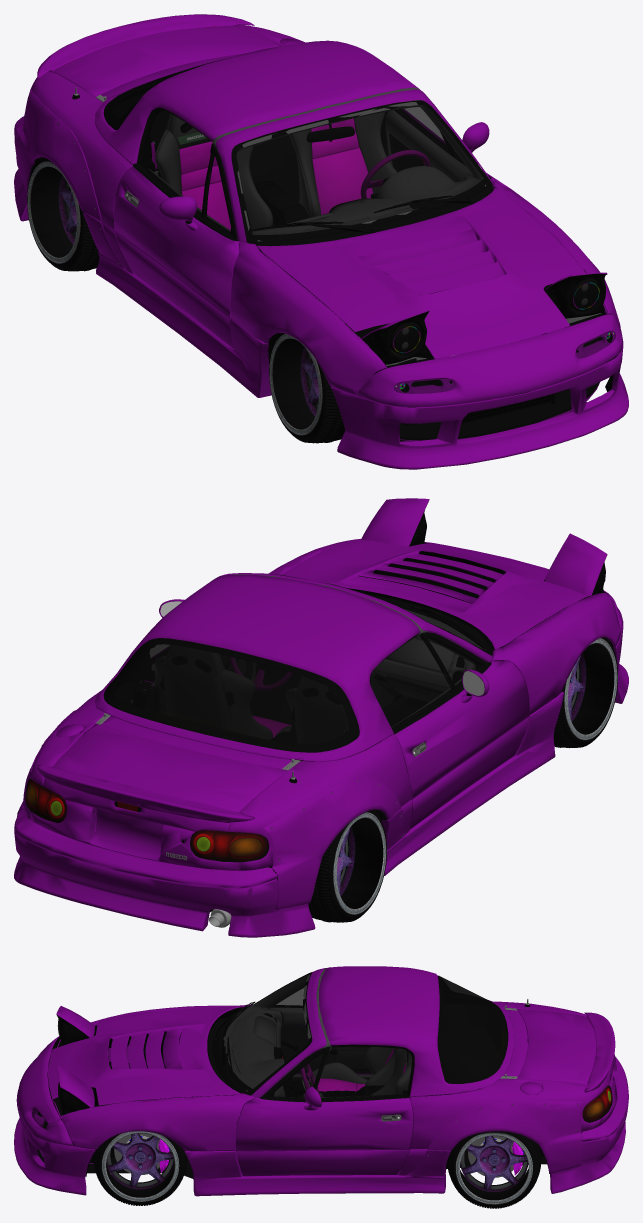
File: mazda-miata-mx-5.glb
The picture shows the model from 3 angles, top to bottom: view 1: azimuth 30°, elevation 25°; view 2: azimuth 150°, elevation 25°; view 3: azimuth 270°, elevation 25°; orthographic projection. The views are drawn at different scales.
Parts seen in each view (by area): view 1: RLA_miata_headlight_R_popup.001, RLA_miata_headlight_R_popup, RLA_miata_windshield, RLA_miata_seat_driver_a, RLA_miata_seat_passenger_a, RLA_miata_window_rf, RLA_miata_dash, RLA_miata_wheel.003, RLA_miata_wheel.002, Object_4.002_Scene_-_Root.002_0, Object_4.004_Scene_-_Root.002_0, RLA_miata_signal_R (+3 smaller); view 2: RLA_miata_headlight_R_popup.001, RLA_miata_headlight_R_popup, RLA_miata_seat_driver_a, RLA_miata_window_rf, RLA_miata_dash, RLA_miata_wheel.003, RLA_miata_wheel.002, RLA_miata_seat_passenger_a, RLA_miata_taillight_L.001, Object_4.004_Scene_-_Root.002_0, RLA_miata_taillight_L, Object_4.002_Scene_-_Root.002_0; view 3: RLA_miata_headlight_R_popup.001, RLA_miata_headlight_R_popup, RLA_miata_windshield, RLA_miata_window_lf, RLA_miata_dash, RLA_miata_wheel.001, RLA_miata_wheel, RLA_miata_seat_passenger_a, Object_4.001_Scene_-_Root.002_0, Object_4.003_Scene_-_Root.002_0, RLA_miata_seat_driver_a, RLA_miata_taillight_L (+3 smaller).
Boxes of the visible parts, x1,y1,x2,y2 form: RLA_miata_headlight_R_popup.001: (14, 14, 628, 469); RLA_miata_headlight_R_popup: (23, 38, 621, 441); RLA_miata_windshield: (236, 105, 483, 235); RLA_miata_seat_driver_a: (289, 112, 396, 217); RLA_miata_seat_passenger_a: (155, 114, 273, 231); RLA_miata_window_rf: (140, 108, 232, 234); RLA_miata_dash: (252, 166, 481, 234); RLA_miata_wheel.003: (27, 160, 80, 263); RLA_miata_wheel.002: (269, 333, 322, 435); Object_4.002_Scene_-_Root.002_0: (269, 333, 344, 443); Object_4.004_Scene_-_Root.002_0: (27, 157, 116, 271); RLA_miata_signal_R: (394, 379, 454, 393); RLA_miata_headlight_R_popup.001: (14, 498, 628, 937); RLA_miata_headlight_R_popup: (18, 501, 622, 912); RLA_miata_seat_driver_a: (155, 645, 291, 739); RLA_miata_window_rf: (369, 634, 480, 728); RLA_miata_dash: (369, 609, 482, 708); RLA_miata_wheel.003: (333, 812, 386, 914); RLA_miata_wheel.002: (564, 638, 617, 740); RLA_miata_seat_passenger_a: (286, 676, 348, 743); RLA_miata_taillight_L.001: (190, 830, 268, 861); Object_4.004_Scene_-_Root.002_0: (308, 809, 386, 922); RLA_miata_taillight_L: (26, 779, 66, 822); Object_4.002_Scene_-_Root.002_0: (553, 637, 617, 748); RLA_miata_headlight_R_popup.001: (14, 966, 628, 1196); RLA_miata_headlight_R_popup: (19, 968, 612, 1178); RLA_miata_windshield: (224, 974, 308, 1088); RLA_miata_window_lf: (270, 1045, 412, 1098); RLA_miata_dash: (224, 1006, 296, 1097); RLA_miata_wheel.001: (455, 1131, 532, 1204); RLA_miata_wheel: (101, 1131, 179, 1201); RLA_miata_seat_passenger_a: (302, 1047, 397, 1091); Object_4.001_Scene_-_Root.002_0: (447, 1131, 541, 1208); Object_4.003_Scene_-_Root.002_0: (93, 1133, 187, 1205); RLA_miata_seat_driver_a: (370, 1048, 411, 1095); RLA_miata_taillight_L: (582, 1086, 611, 1121).
Size of what is drawn, in the model's own units: 1.81 by 1.15 by 3.93.
Materials: 41 (8 with a texture image).
